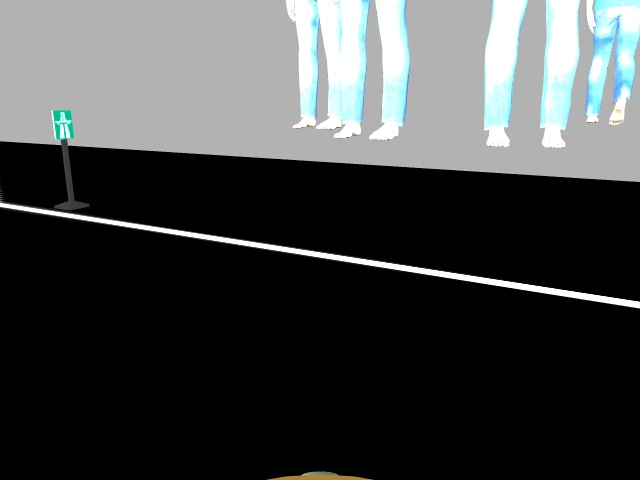HighwayEntrance: (50, 108, 73, 137)
